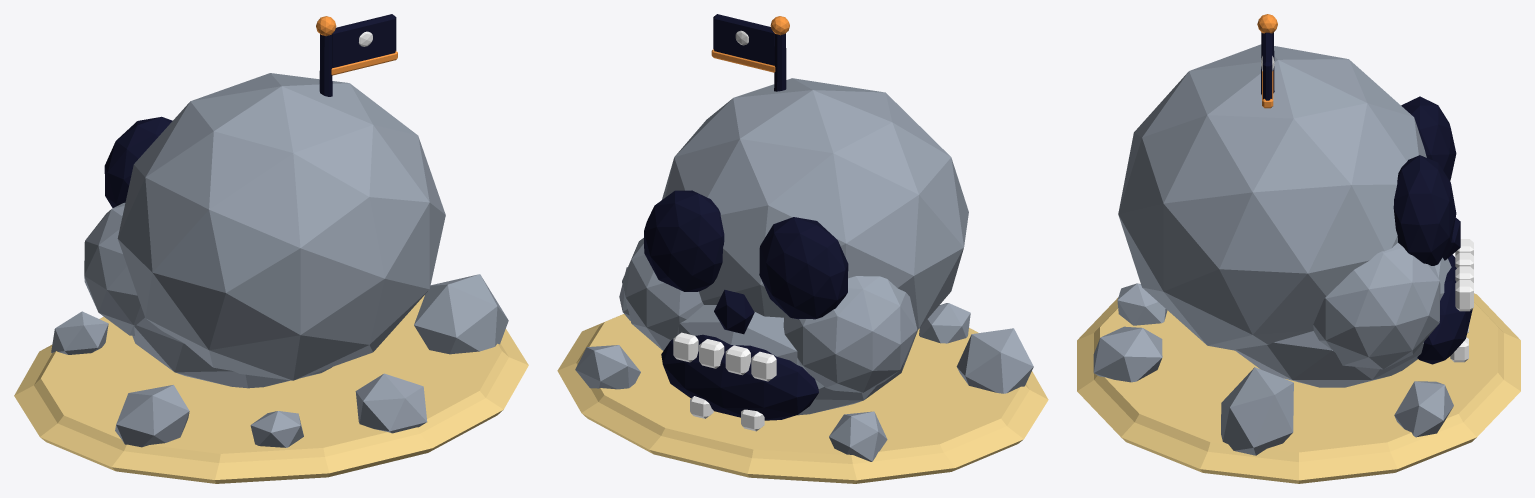
Rendered from Prop_pirate_harbor_SkullRock.glb.
The picture shows the model from 3 angles, left to right: view 1: azimuth 30°, elevation 25°; view 2: azimuth 150°, elevation 25°; view 3: azimuth 270°, elevation 25°; orthographic projection. The views are drawn at different scales.
Parts seen in each view (by area): view 1: Stone_9AA4B2, Sand_F4D58A, Ink_0D0F2B, HarborOrange_FF9A3D; view 2: Stone_9AA4B2, Sand_F4D58A, Ink_0D0F2B, White_FFFFFF, HarborOrange_FF9A3D; view 3: Stone_9AA4B2, Sand_F4D58A, Ink_0D0F2B, White_FFFFFF, HarborOrange_FF9A3D.
Boxes of the visible parts, box(x1,y1,x2,y2) form: Stone_9AA4B2: box(51, 73, 508, 447); Sand_F4D58A: box(14, 295, 528, 483); Ink_0D0F2B: box(104, 14, 396, 207); HarborOrange_FF9A3D: box(316, 16, 397, 75); Stone_9AA4B2: box(575, 78, 1033, 461); Sand_F4D58A: box(557, 314, 1048, 483); Ink_0D0F2B: box(644, 14, 848, 420); White_FFFFFF: box(673, 30, 776, 431); HarborOrange_FF9A3D: box(711, 16, 789, 72); Stone_9AA4B2: box(1093, 44, 1453, 455); Sand_F4D58A: box(1077, 293, 1520, 483); Ink_0D0F2B: box(1261, 32, 1472, 364); White_FFFFFF: box(1261, 56, 1473, 362); HarborOrange_FF9A3D: box(1257, 14, 1277, 108).
Size of the model in its own units: 26 by 20.2 by 21.29.
